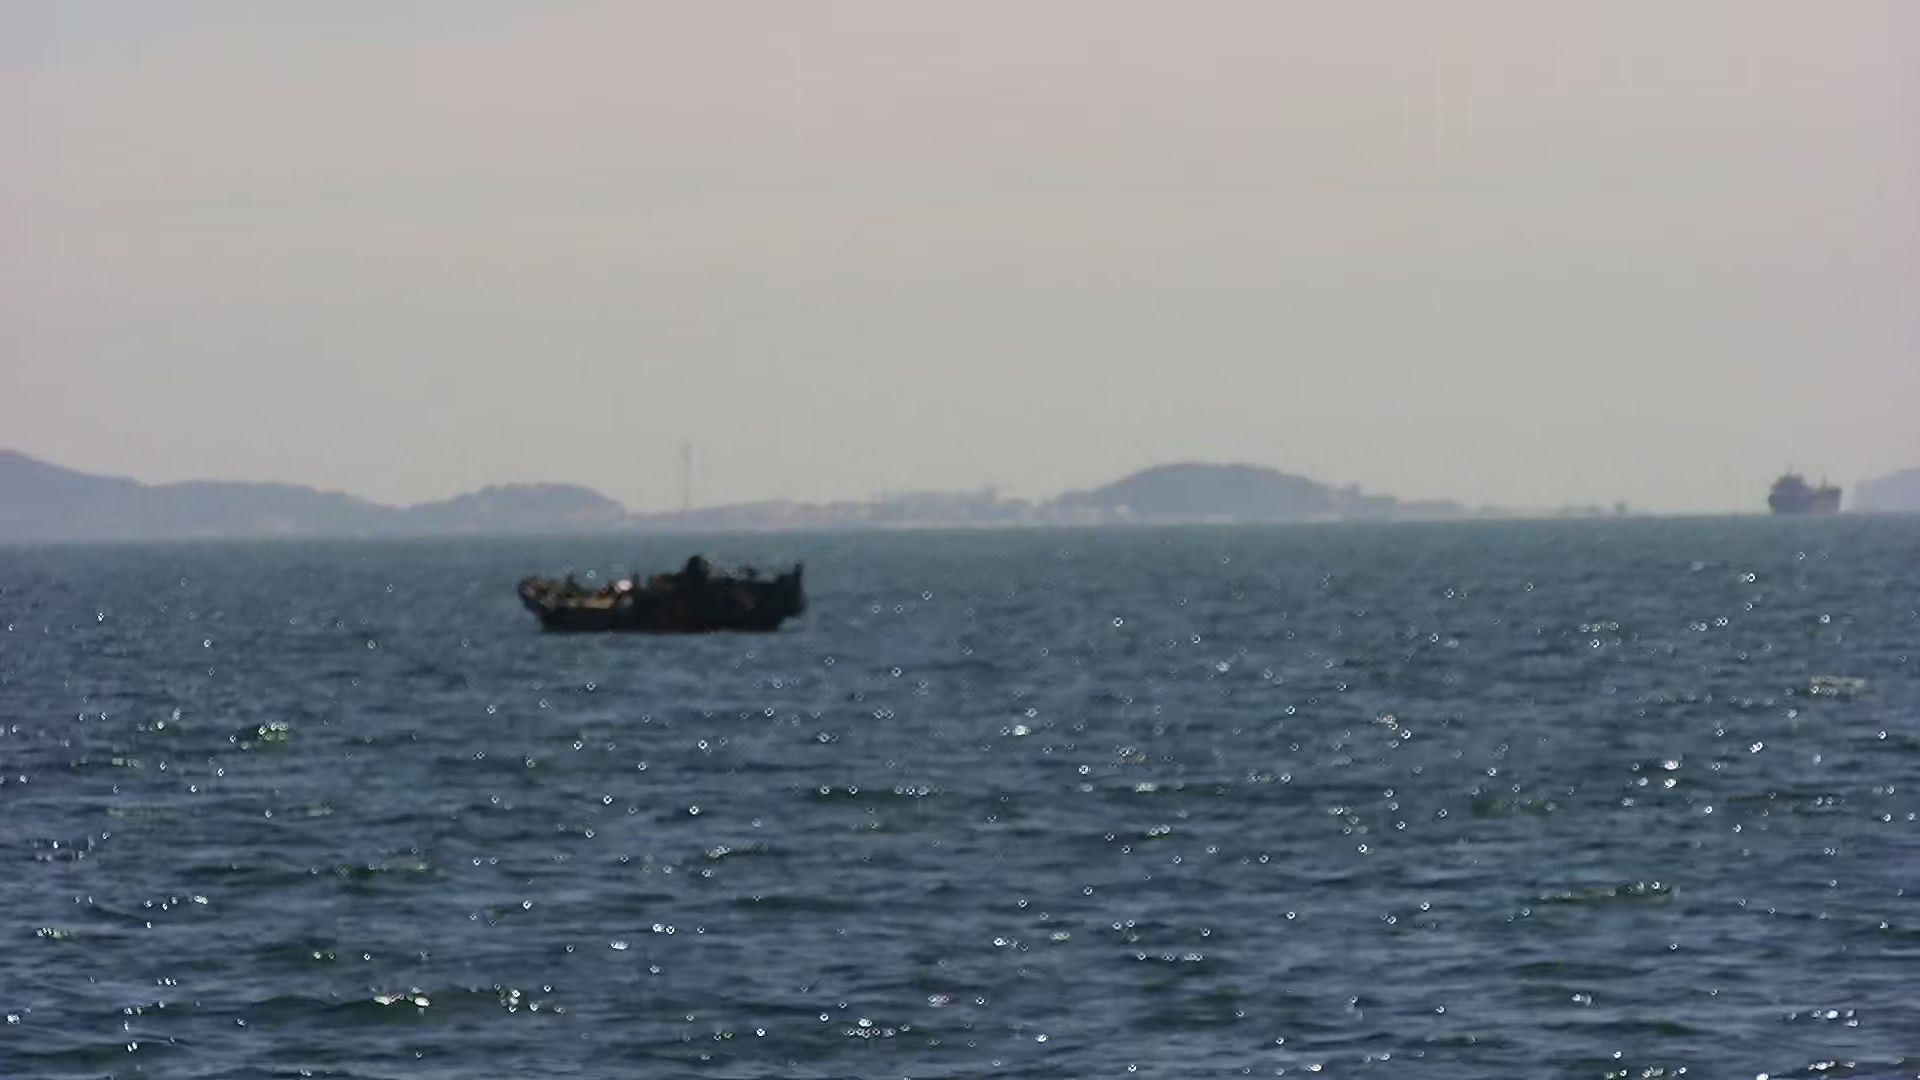boat: (522, 553, 816, 642)
ship: (1764, 465, 1844, 518)
